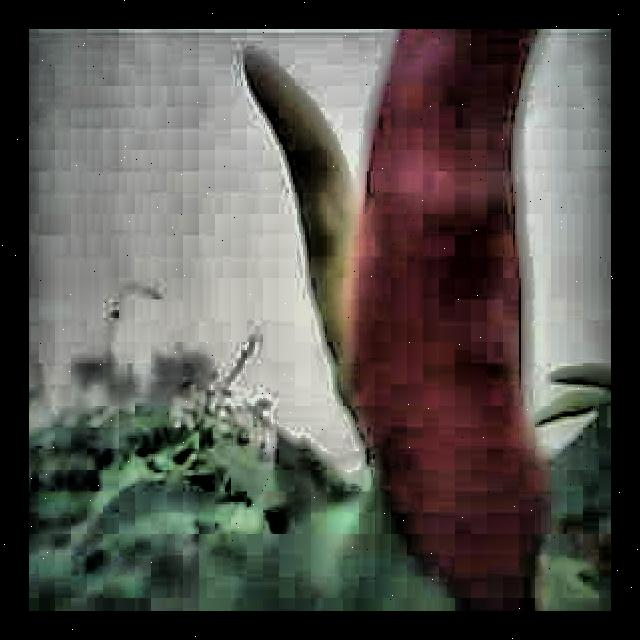Cabai: (385, 30, 542, 594)
